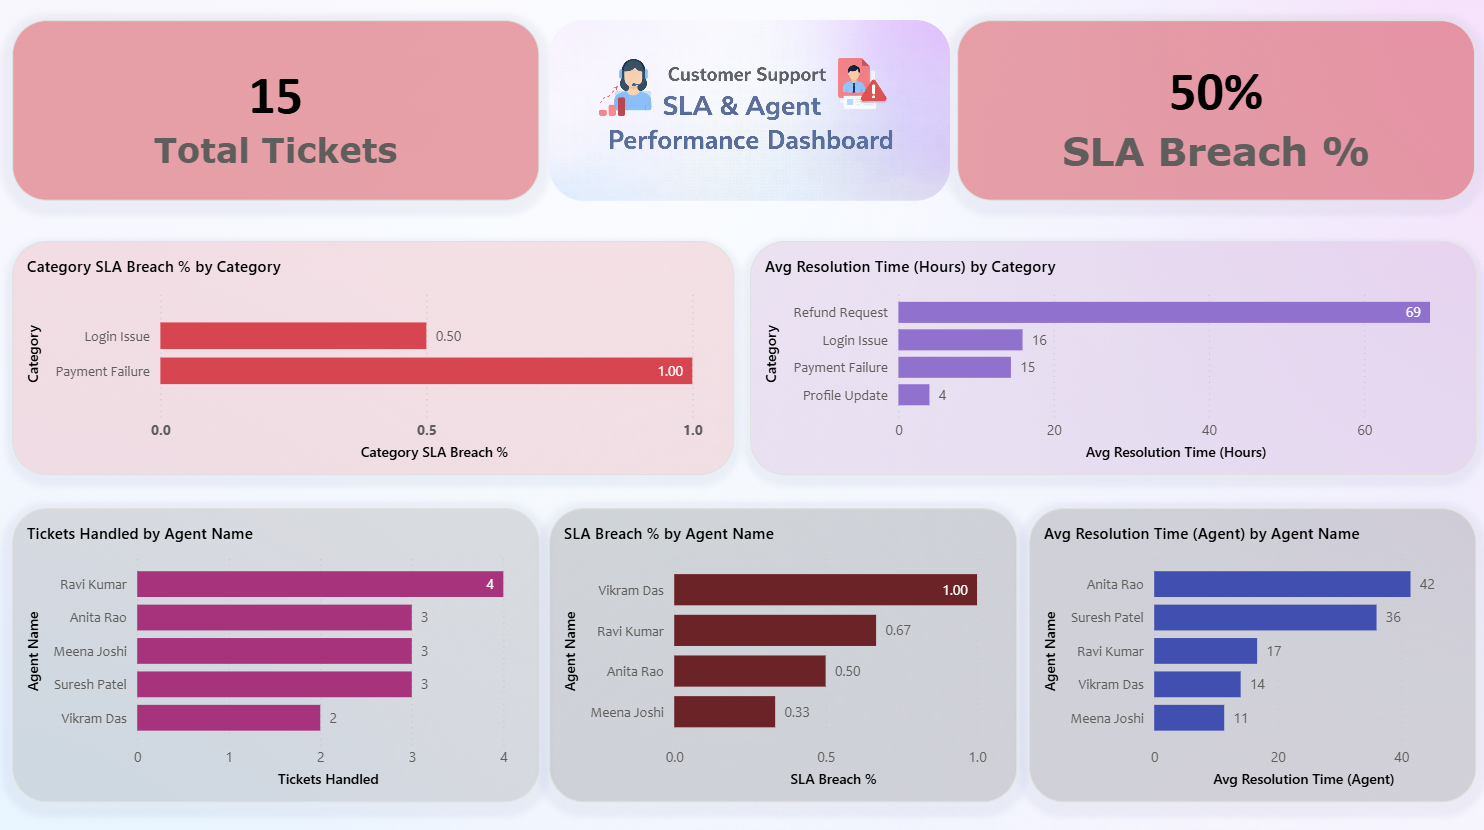

What the dashboard file says about the page in this screenshot:
{"tool":"powerbi","page":{"name":"Page 1","canvas":[1280,720],"ordinal":0},"visuals":[{"type":"card","fields":{"Values":["Ticket Analysis.Ticket_Id"]},"box":[10.1,16.9,454.6,156.3],"z":0},{"type":"card","fields":{"Values":["Category Performance.SLA Breach %"]},"box":[825.6,16.9,447,156.3],"z":1000},{"type":"clusteredBarChart","fields":{"Category":["Category Performance.Category_Name"],"Y":["Category Performance.Category SLA Breach %"]},"box":[10.1,207.9,622.8,202],"z":2000},{"type":"clusteredBarChart","fields":{"Category":["Ticket Analysis.Category_Name"],"Y":["Ticket Analysis.Avg Resolution Time (Hours)"]},"box":[646.5,207.9,627,202],"z":3000},{"type":"clusteredBarChart","fields":{"Category":["Ticket Analysis.Agent_Name"],"Y":["Category Performance.Tickets Handled"]},"box":[10.1,438.6,454.6,254.4],"z":4000},{"type":"clusteredBarChart","fields":{"Category":["Ticket Analysis.Agent_Name"],"Y":["Category Performance.Avg Resolution Time (Agent)"]},"box":[887.3,438.6,386.2,254.4],"z":5000},{"type":"clusteredBarChart","fields":{"Category":["Ticket Analysis.Agent_Name"],"Y":["Category Performance.SLA Breach %"]},"box":[473.2,438.6,403.9,254.4],"z":6000},{"type":"image","box":[473.2,16.9,346.5,156.3],"z":6001}]}

Visuals, with their boxes in screenshot pixels (x1, y1, x2, y2), scaled from the page's 1280x720 canvas onto the 1484x830 screenshot:
card - Ticket Analysis.Ticket_Id: pyautogui.locateOnScreen(12, 19, 539, 200)
card - Category Performance.SLA Breach %: pyautogui.locateOnScreen(957, 19, 1475, 200)
clusteredBarChart - Category Performance.Category_Name x Category Performance.Category SLA Breach %: pyautogui.locateOnScreen(12, 240, 734, 473)
clusteredBarChart - Ticket Analysis.Category_Name x Ticket Analysis.Avg Resolution Time (Hours): pyautogui.locateOnScreen(750, 240, 1476, 473)
clusteredBarChart - Ticket Analysis.Agent_Name x Category Performance.Tickets Handled: pyautogui.locateOnScreen(12, 506, 539, 799)
clusteredBarChart - Ticket Analysis.Agent_Name x Category Performance.Avg Resolution Time (Agent): pyautogui.locateOnScreen(1029, 506, 1476, 799)
clusteredBarChart - Ticket Analysis.Agent_Name x Category Performance.SLA Breach %: pyautogui.locateOnScreen(549, 506, 1017, 799)
image: pyautogui.locateOnScreen(549, 19, 950, 200)
